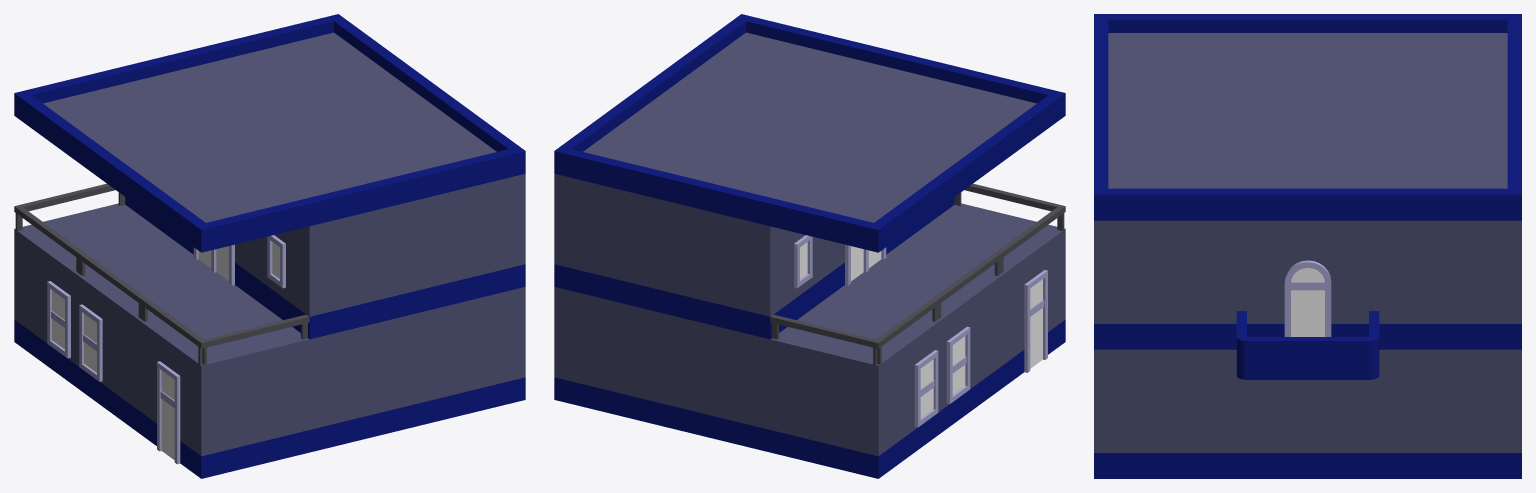
File: modern_house_2.fbx
3 views of the same model, side by side, from view 1: azimuth 30°, elevation 25°; view 2: azimuth 150°, elevation 25°; view 3: azimuth 270°, elevation 25° (orthographic). The views are drawn at different scales.
Visible parts, largest first — view 1: mergedBlocks; view 2: mergedBlocks; view 3: mergedBlocks.
Boxes of the visible parts, bbox=[...] form: mergedBlocks: bbox=[14, 14, 525, 478]; mergedBlocks: bbox=[554, 14, 1065, 478]; mergedBlocks: bbox=[1094, 14, 1521, 478].
Bounding box in the file's own units: 35.3 × 22 × 30.
